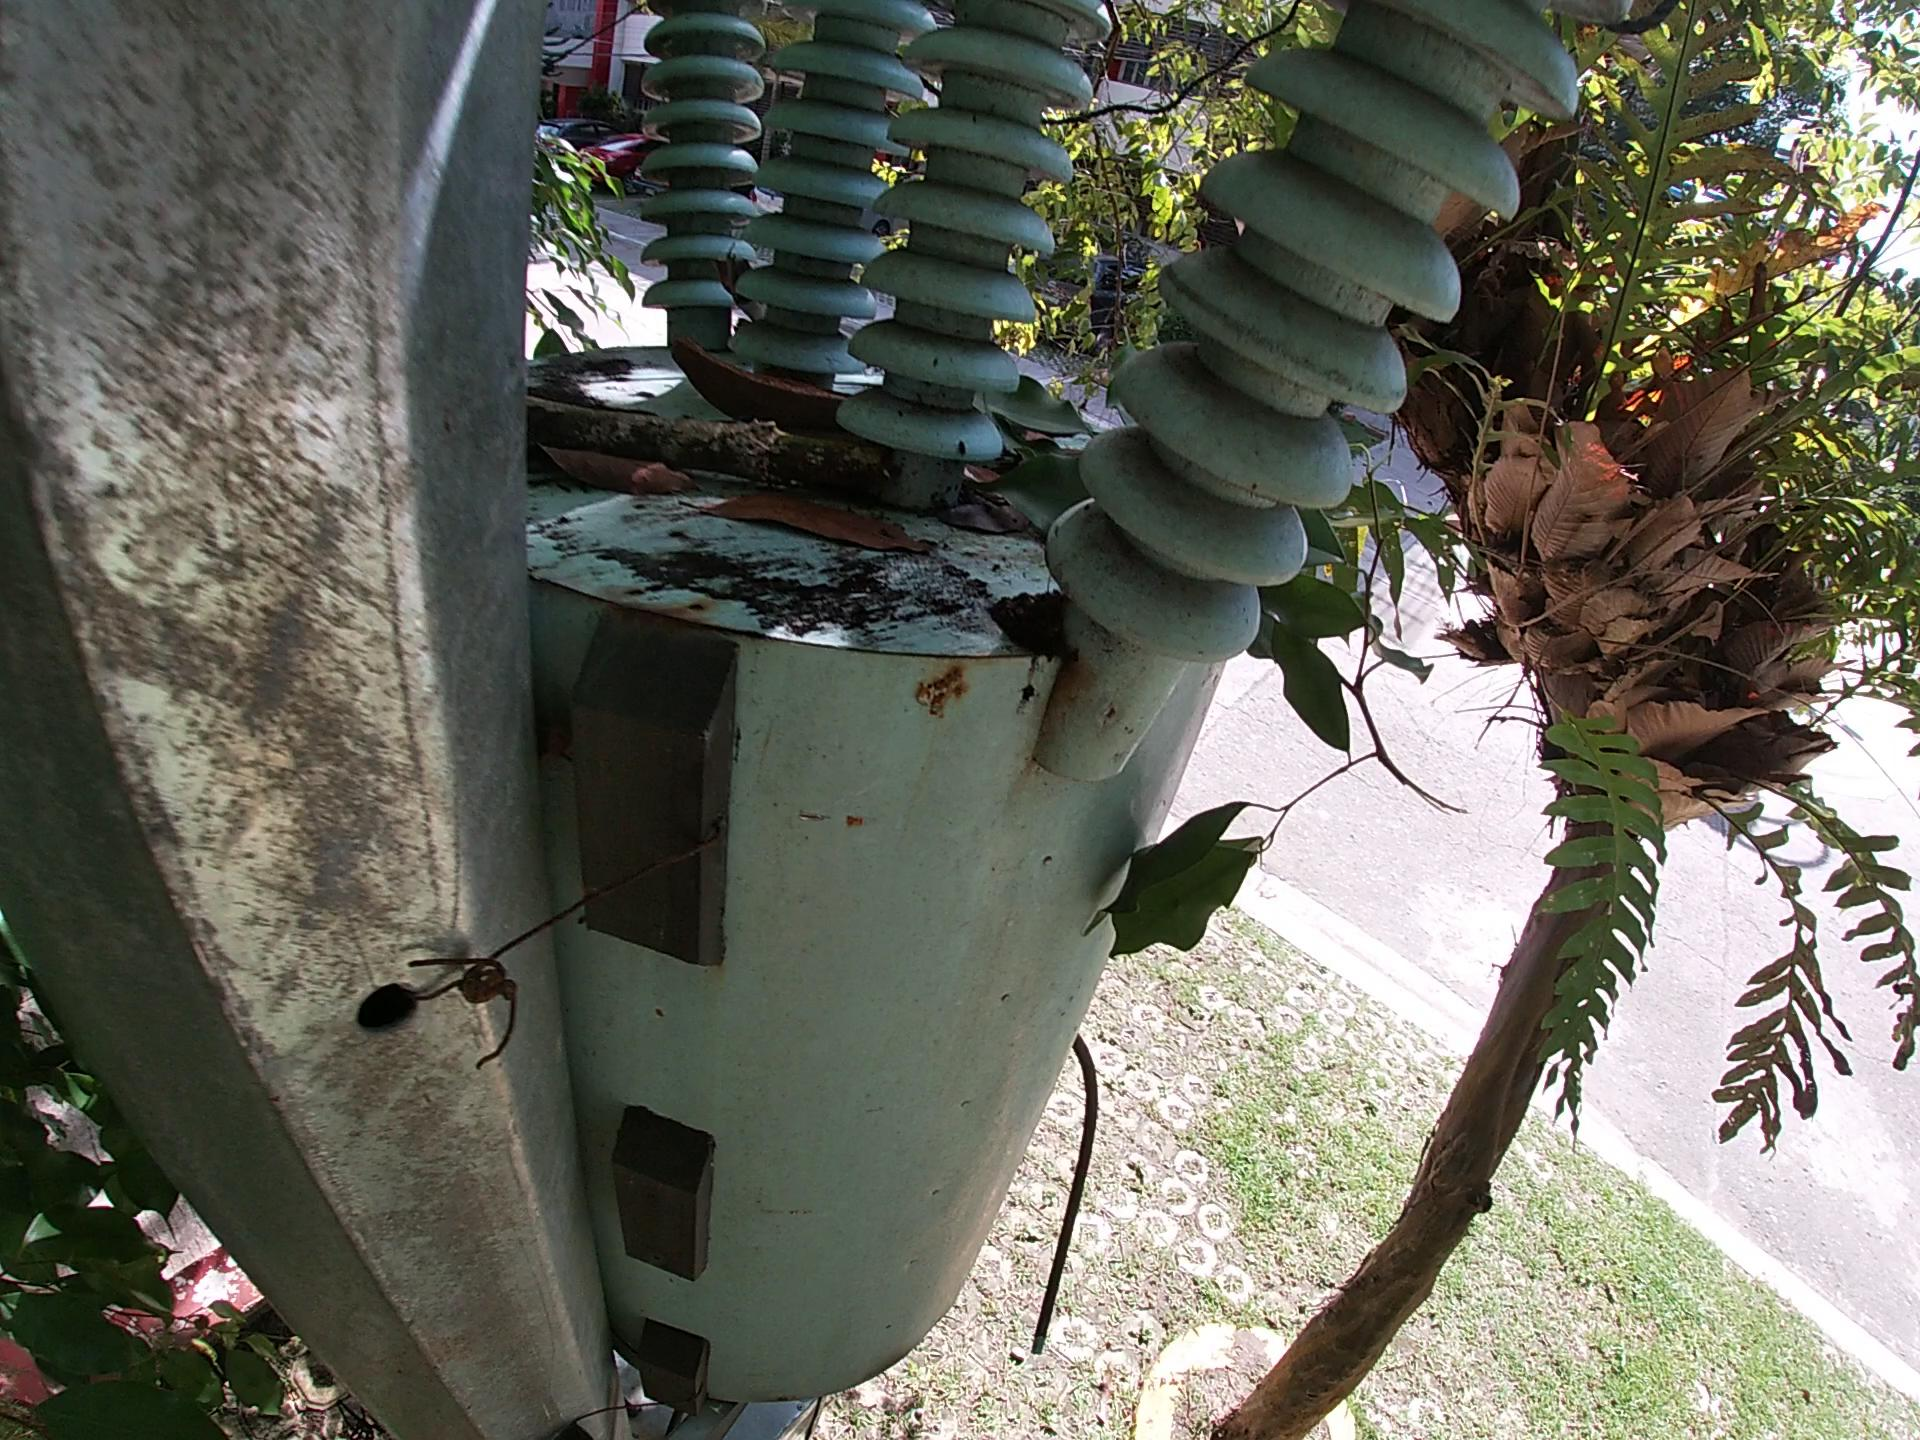branch with leaves: (1095, 366, 1488, 998)
leaf: (955, 340, 1114, 560), (679, 496, 931, 564)
mahogany fruit: (658, 327, 862, 425)
tree branch: (514, 387, 898, 483)
